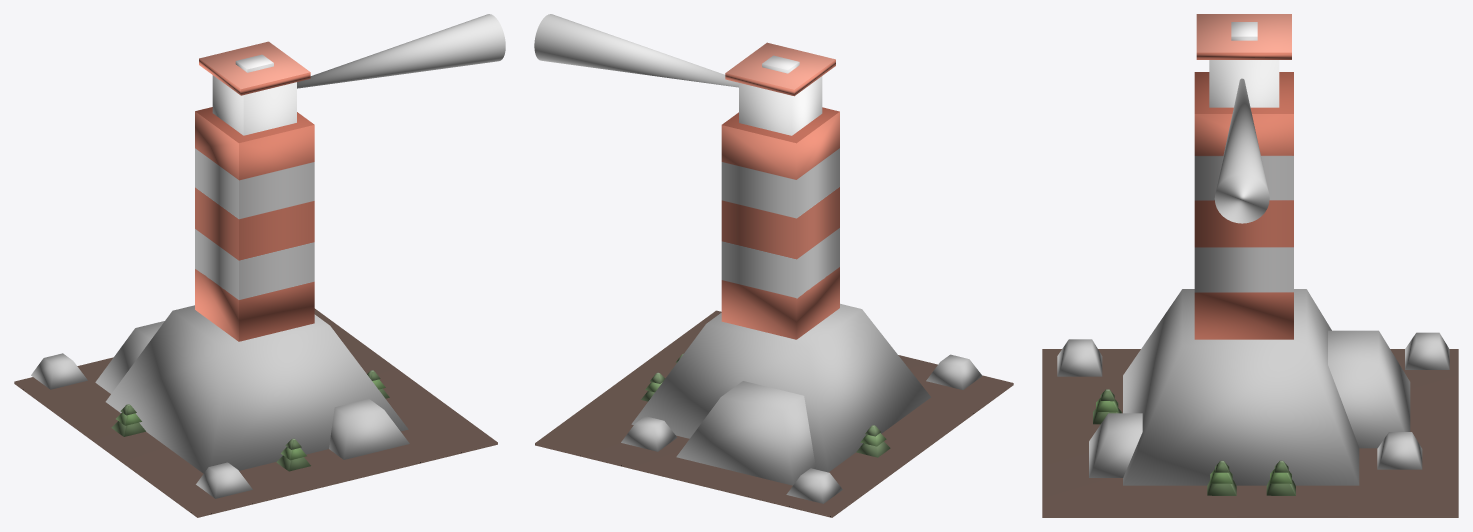
The model's file is Lighthouse.fbx.
3 renders of one model, left to right at view 1: azimuth 30°, elevation 25°; view 2: azimuth 150°, elevation 25°; view 3: azimuth 270°, elevation 25°, orthographic. The views are drawn at different scales.
Visible parts, largest first — view 1: Lighthouse, Rock_002, Cube_001, Cone, Rock_003, Rock_000, Rock_005, Rock_004, Tree_002, Tree_001; view 2: Lighthouse, Rock_002, Cube_001, Rock_000, Cone, Rock_006, Rock_005, Rock_004, Tree_001; view 3: Rock_002, Cube_001, Lighthouse, Rock_000, Cone, Rock_003, Rock_006, Rock_004, Rock_005, Tree_009, Tree_000, Tree_002.
Boxes of the visible parts, x1=… form: Lighthouse: x1=195, y1=41, x2=314, y2=341; Rock_002: x1=105, y1=305, x2=408, y2=473; Cube_001: x1=14, y1=308, x2=497, y2=517; Cone: x1=297, y1=14, x2=505, y2=88; Rock_003: x1=329, y1=399, x2=409, y2=459; Rock_000: x1=95, y1=321, x2=164, y2=393; Rock_005: x1=31, y1=353, x2=87, y2=389; Rock_004: x1=196, y1=462, x2=252, y2=498; Tree_002: x1=276, y1=438, x2=310, y2=471; Tree_001: x1=111, y1=404, x2=145, y2=436; Lighthouse: x1=721, y1=42, x2=839, y2=339; Rock_002: x1=631, y1=303, x2=930, y2=472; Cube_001: x1=535, y1=310, x2=1013, y2=517; Rock_000: x1=676, y1=381, x2=816, y2=485; Cone: x1=534, y1=14, x2=738, y2=87; Rock_006: x1=621, y1=416, x2=677, y2=451; Rock_005: x1=786, y1=468, x2=842, y2=503; Rock_004: x1=926, y1=354, x2=982, y2=389; Tree_001: x1=856, y1=425, x2=890, y2=457; Rock_002: x1=1123, y1=289, x2=1359, y2=485; Cube_001: x1=1042, y1=349, x2=1458, y2=517; Lighthouse: x1=1194, y1=14, x2=1293, y2=339; Rock_000: x1=1328, y1=330, x2=1410, y2=448; Cone: x1=1214, y1=78, x2=1269, y2=223; Rock_003: x1=1089, y1=413, x2=1142, y2=477; Rock_006: x1=1377, y1=432, x2=1422, y2=469; Rock_004: x1=1057, y1=339, x2=1102, y2=376; Rock_005: x1=1405, y1=332, x2=1449, y2=369; Tree_009: x1=1207, y1=460, x2=1236, y2=495; Tree_000: x1=1266, y1=460, x2=1295, y2=495; Tree_002: x1=1093, y1=389, x2=1121, y2=424.
Bounding box in the file's own units: 16.32 × 14.41 × 13.49.
